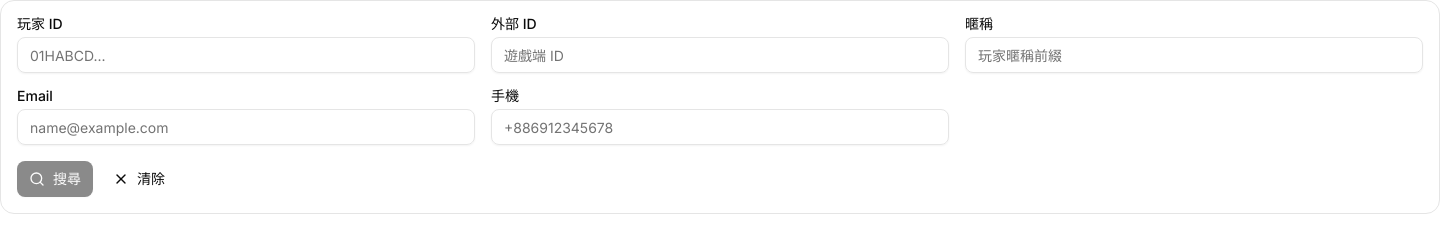
SearchForm › should enable Submit when any field has non-whitespace value
Step 1. Type "王" into the field labelled "暱稱" → (1194, 55), box x1=965 y1=37 x2=1423 y2=73
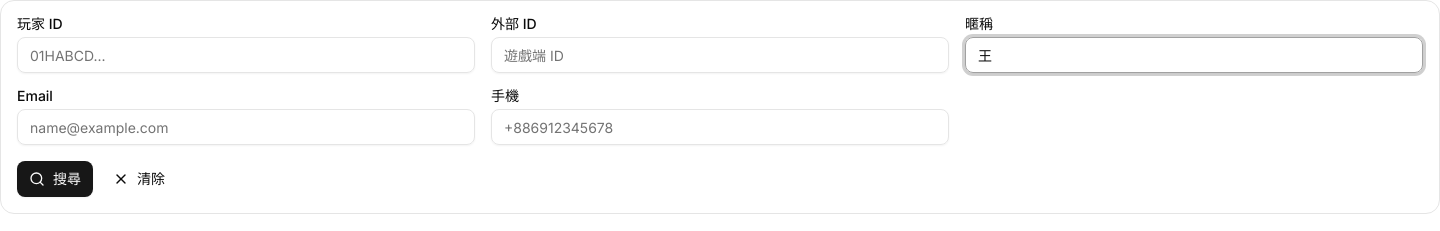
Result: the button "搜尋" is enabled at x1=17 y1=161 x2=93 y2=197
